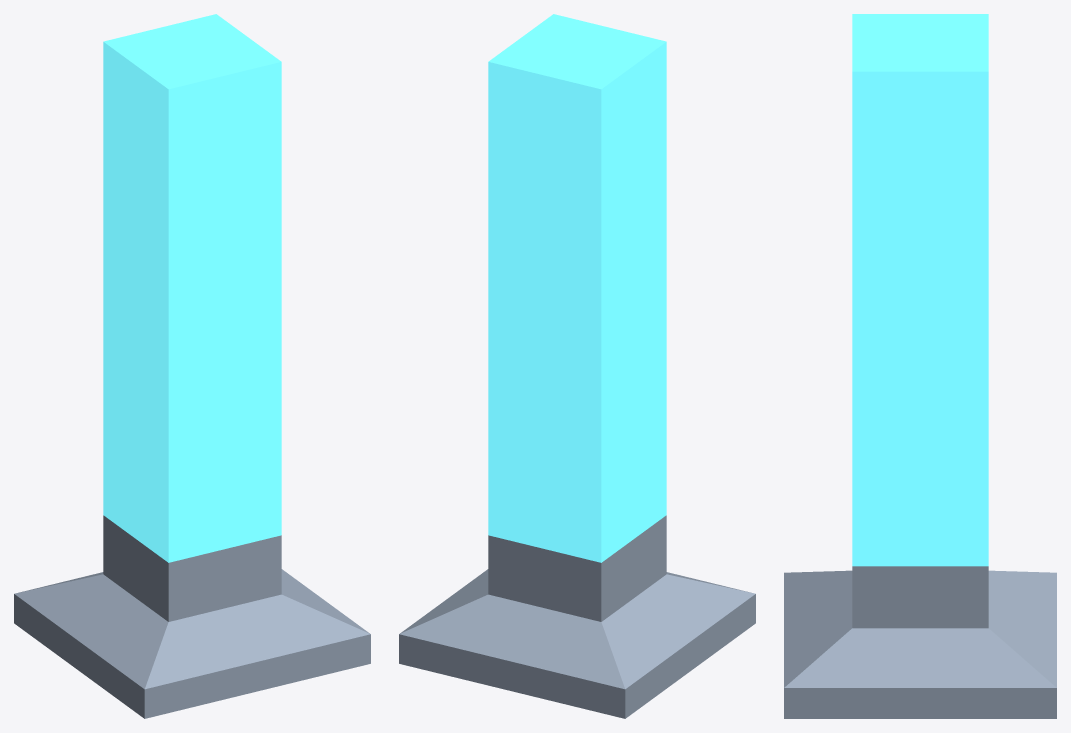
Rendered from pipe_supportHigh.glb.
3 views of the same model, side by side, from view 1: azimuth 30°, elevation 25°; view 2: azimuth 150°, elevation 25°; view 3: azimuth 270°, elevation 25° (orthographic). The views are drawn at different scales.
Visible parts, largest first — view 1: pipe_supportHigh; view 2: pipe_supportHigh; view 3: pipe_supportHigh.
Boxes of the visible parts, <box> form: pipe_supportHigh: <box>14,14,370,718</box>; pipe_supportHigh: <box>399,14,755,718</box>; pipe_supportHigh: <box>784,14,1056,718</box>.
Size of the model in its own units: 0.4 by 1 by 0.4.
